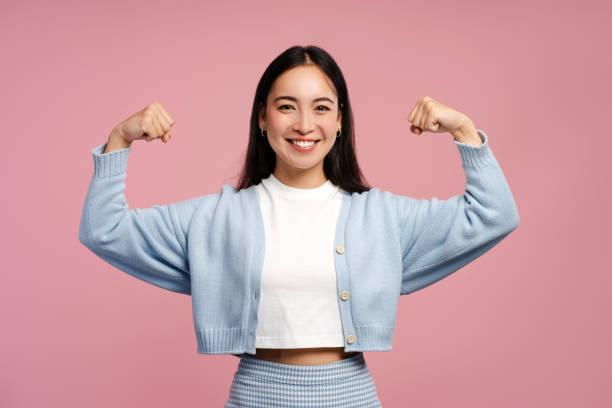Non_Gorille: (101, 19, 522, 400)
